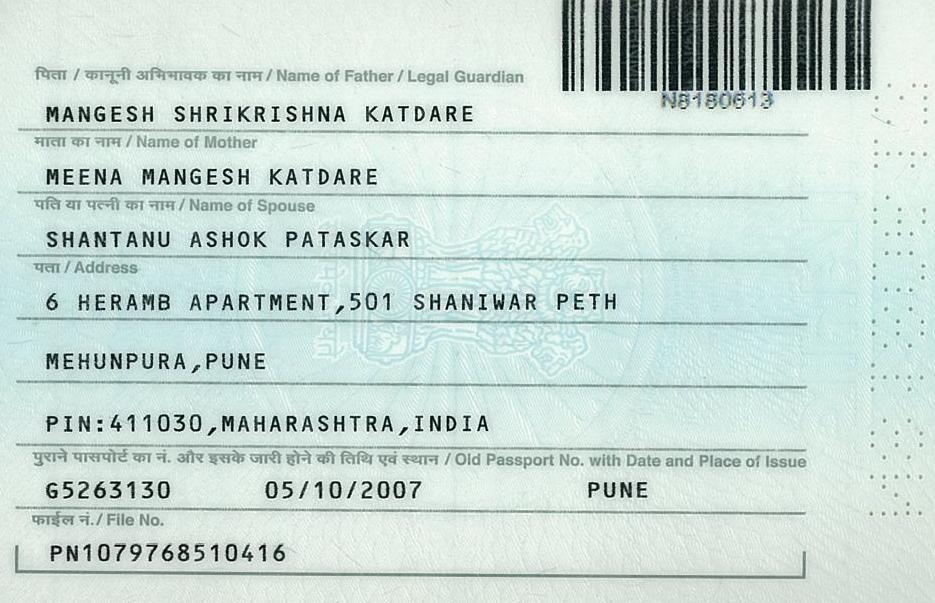File_no: (43, 533, 298, 572)
address: (28, 269, 636, 437)
father_name: (33, 88, 483, 137)
mother_name: (29, 152, 395, 197)
old_passport_details: (26, 471, 697, 510)
passport_no: (656, 84, 781, 114)
spouse_name: (42, 217, 419, 256)
